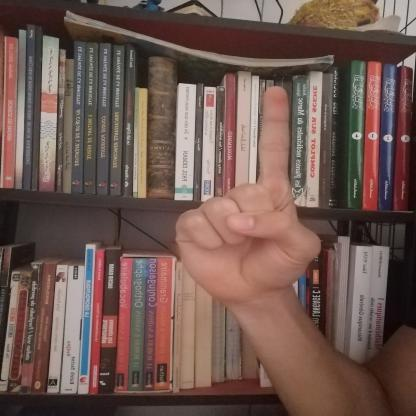BAA: (162, 78, 335, 312)
